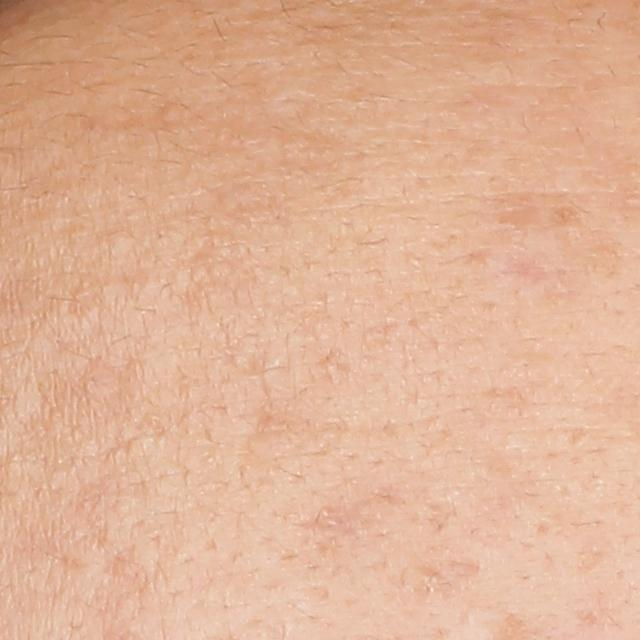comedo: (156, 104, 181, 125)
